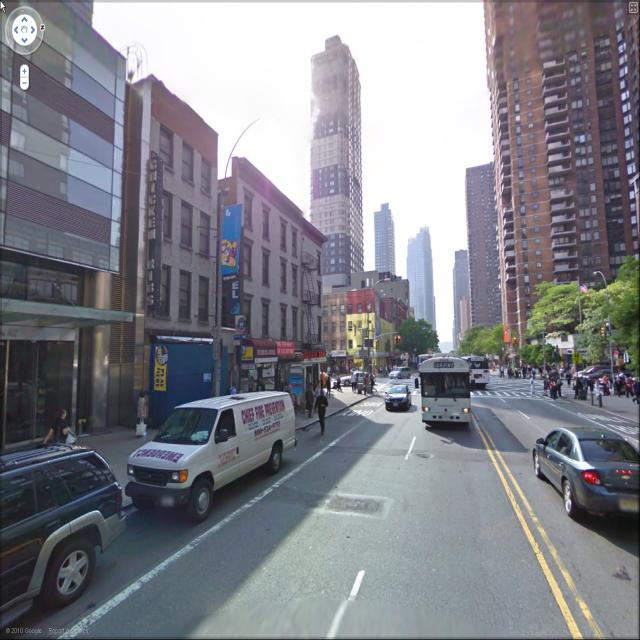b_1: (1, 9, 122, 368), (484, 8, 640, 274), (123, 78, 225, 407), (211, 165, 334, 424), (311, 34, 367, 303), (458, 154, 510, 377), (396, 224, 448, 362), (345, 281, 395, 363), (447, 240, 474, 361), (370, 188, 400, 296), (324, 286, 346, 362)
